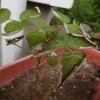Raspberry leaf: (57, 51, 87, 88), (30, 37, 64, 59), (64, 32, 99, 50), (27, 29, 46, 49), (26, 16, 49, 30), (43, 26, 59, 39)
